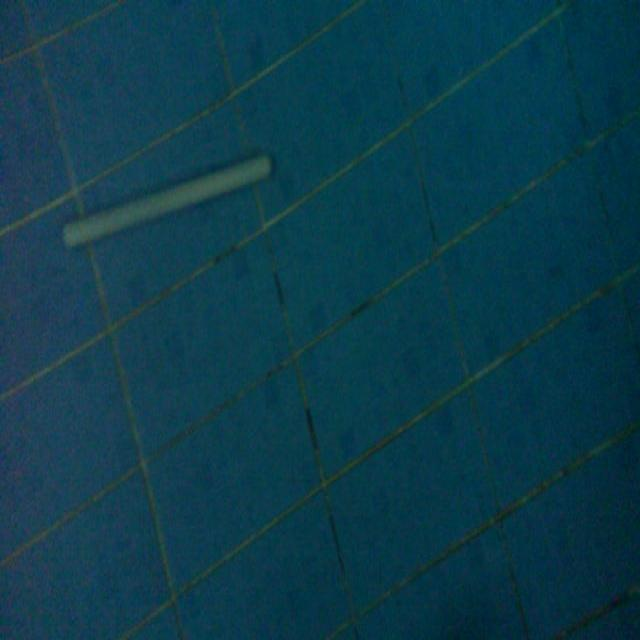Cube: (61, 148, 275, 252)
